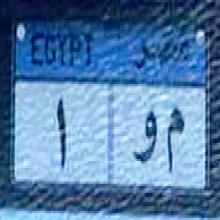1: (54, 93, 70, 168)
meem: (163, 102, 188, 181)
waw: (134, 108, 158, 169)
